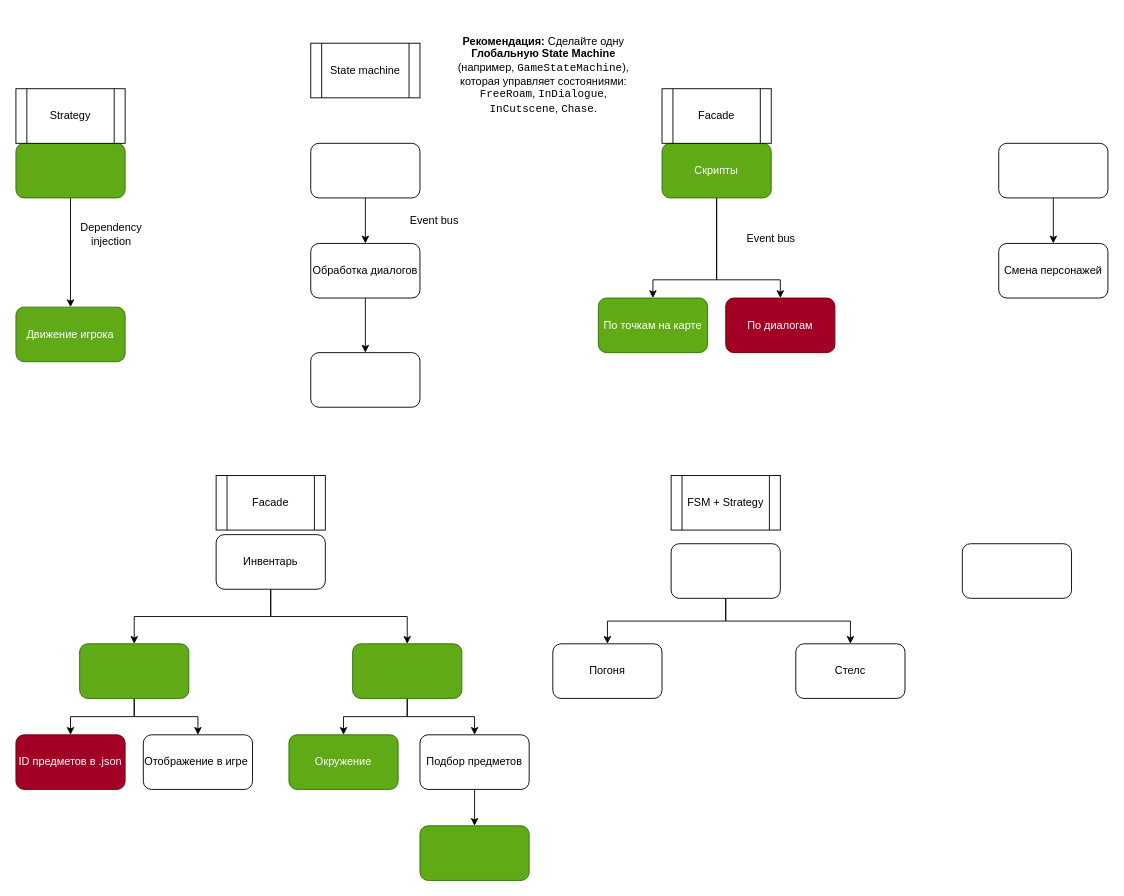
This 1124x896 diagram has some shape labels left out. Each missing label, with the box of its shape:
Взаимодействие: (352, 643, 462, 698)
Данные предметов: (419, 825, 529, 880)
Диалоговая система: (310, 142, 420, 198)
Монстр: (670, 543, 780, 598)
Озвучка: (310, 352, 420, 407)
Система актов: (998, 142, 1108, 198)
Управление: (15, 142, 125, 198)
Фильтр PSX: (961, 543, 1072, 598)
Хранение: (79, 643, 189, 698)
